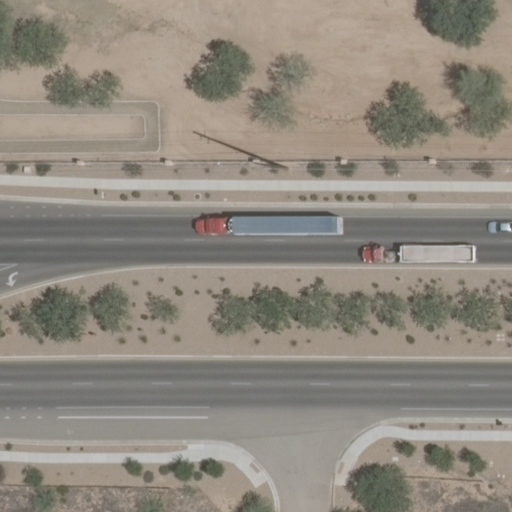DT: (242, 153, 297, 174)
